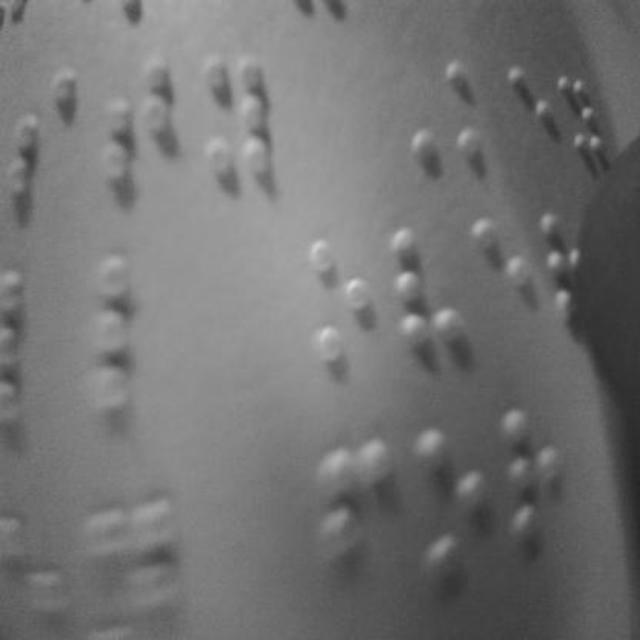braiile: (80, 248, 170, 408), (0, 266, 86, 416), (315, 434, 395, 588), (0, 54, 84, 200), (417, 426, 487, 584), (304, 221, 378, 365), (98, 46, 170, 190), (202, 49, 274, 182), (390, 224, 462, 356), (470, 212, 536, 352), (501, 403, 564, 543), (443, 39, 507, 169)
